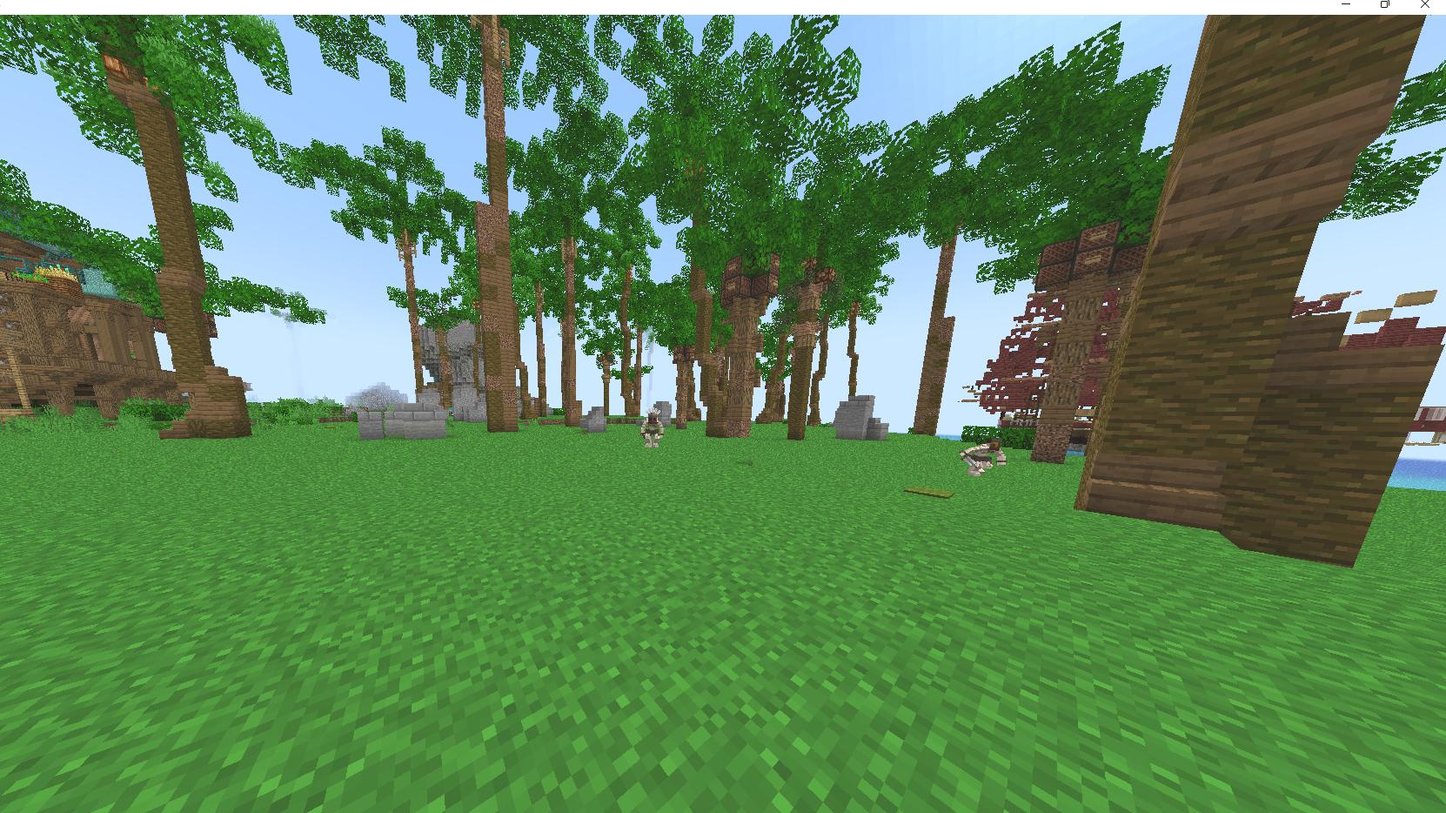bow_indian: (634, 403, 676, 454)
